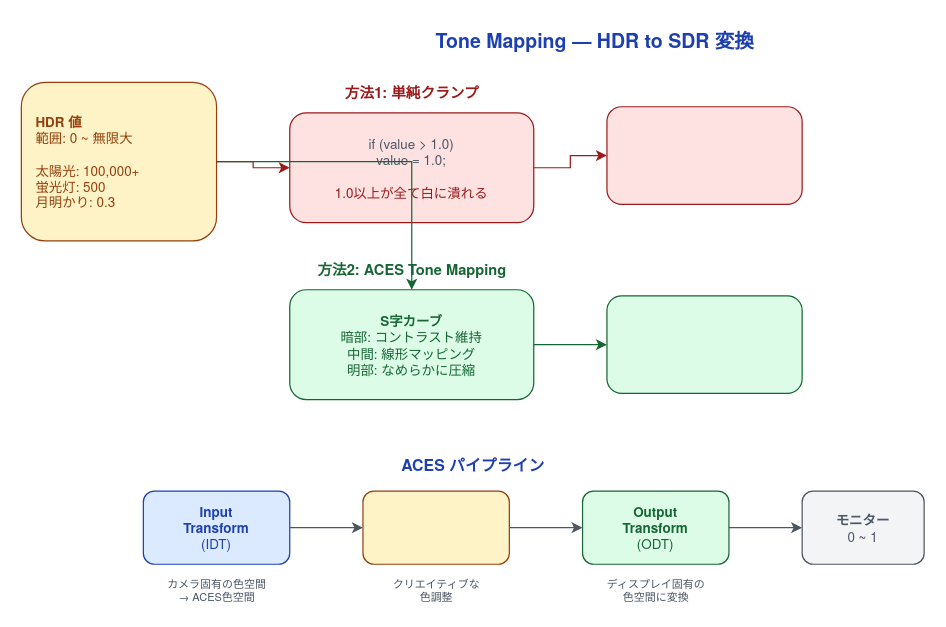
Some shapes in this 946 by 627 pixel diagram are drawn without their labels. Each missing label, with the box of its shape:
Look Transform (LMT): (362, 490, 509, 564)
SDR (ACES) 全輝度域のディテール保持 映画品質の色再現: (606, 295, 802, 393)
SDR (クランプ) 明部ディテール消失 暗部も潰れやすい: (606, 106, 802, 204)
